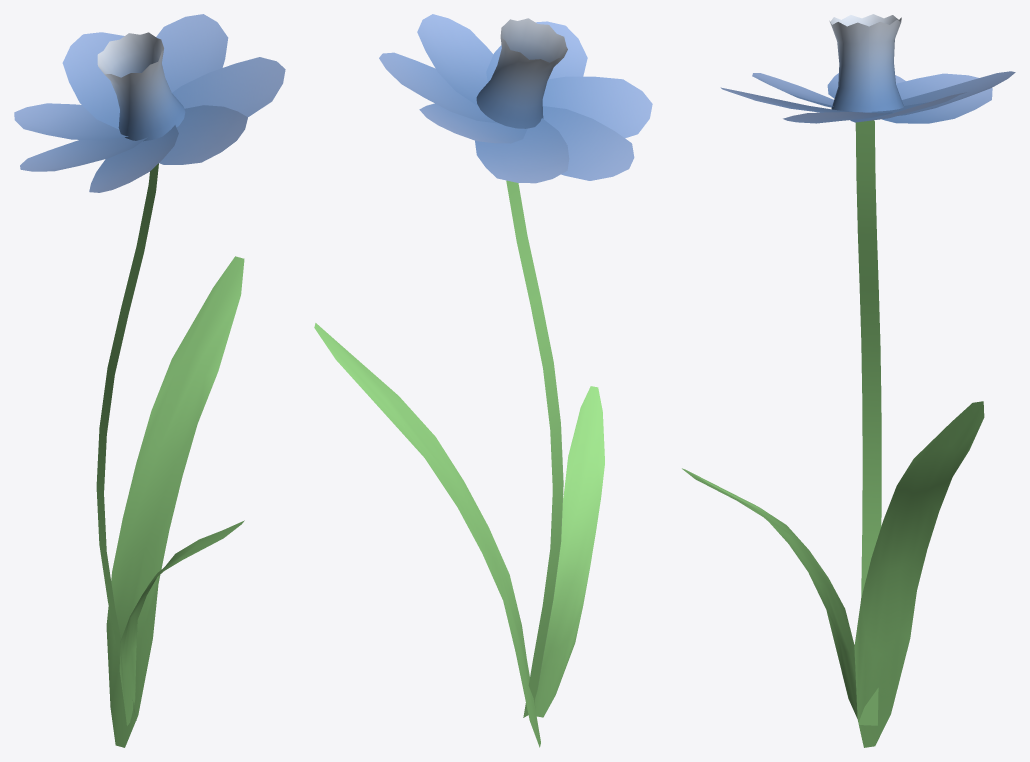
File: SM_FlowerA.fbx
The picture shows the model from 3 angles, left to right: view 1: azimuth 30°, elevation 25°; view 2: azimuth 150°, elevation 25°; view 3: azimuth 270°, elevation 25°; orthographic projection. The views are drawn at different scales.
Parts seen in each view (by area): view 1: Flower3; view 2: Flower3; view 3: Flower3.
Part boxes in pixels (x1,y1,x2,y2): Flower3: (14, 14, 285, 747); Flower3: (314, 14, 652, 747); Flower3: (682, 14, 1015, 747).
Size of the model in its own units: 0.2739 by 0.6902 by 0.2818.
